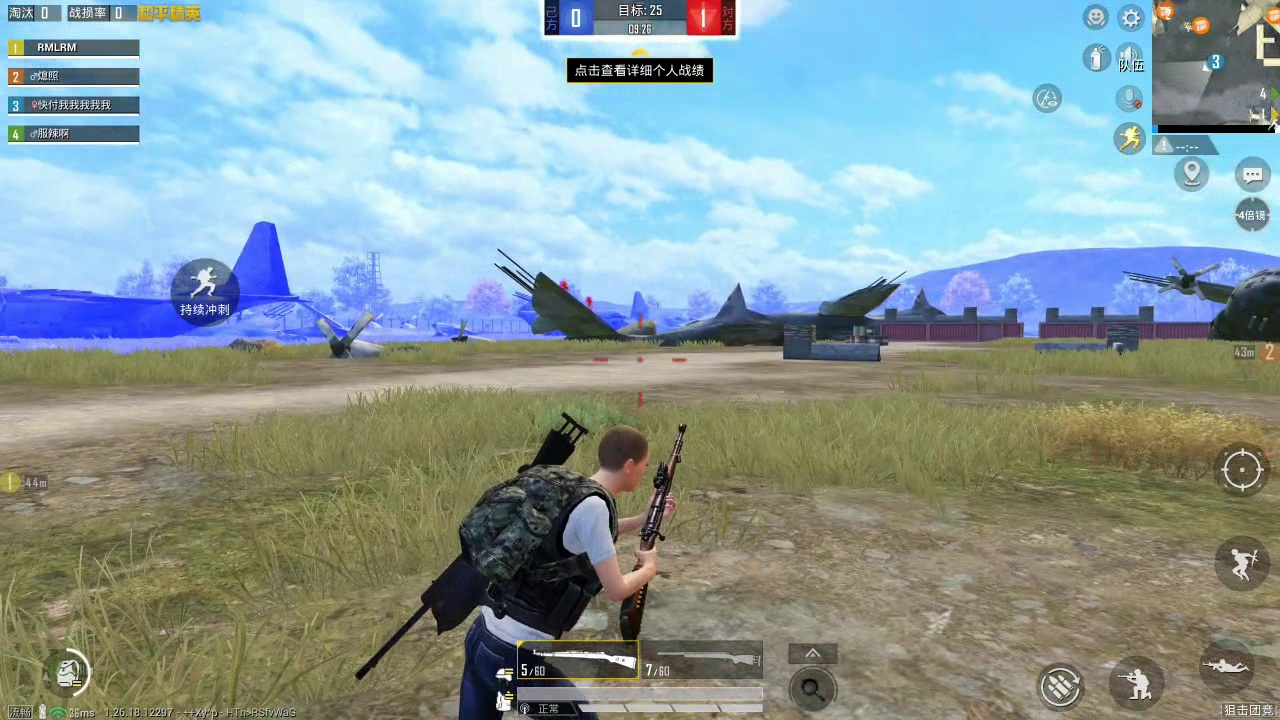enemy: (585, 291, 593, 309), (559, 278, 568, 290)
